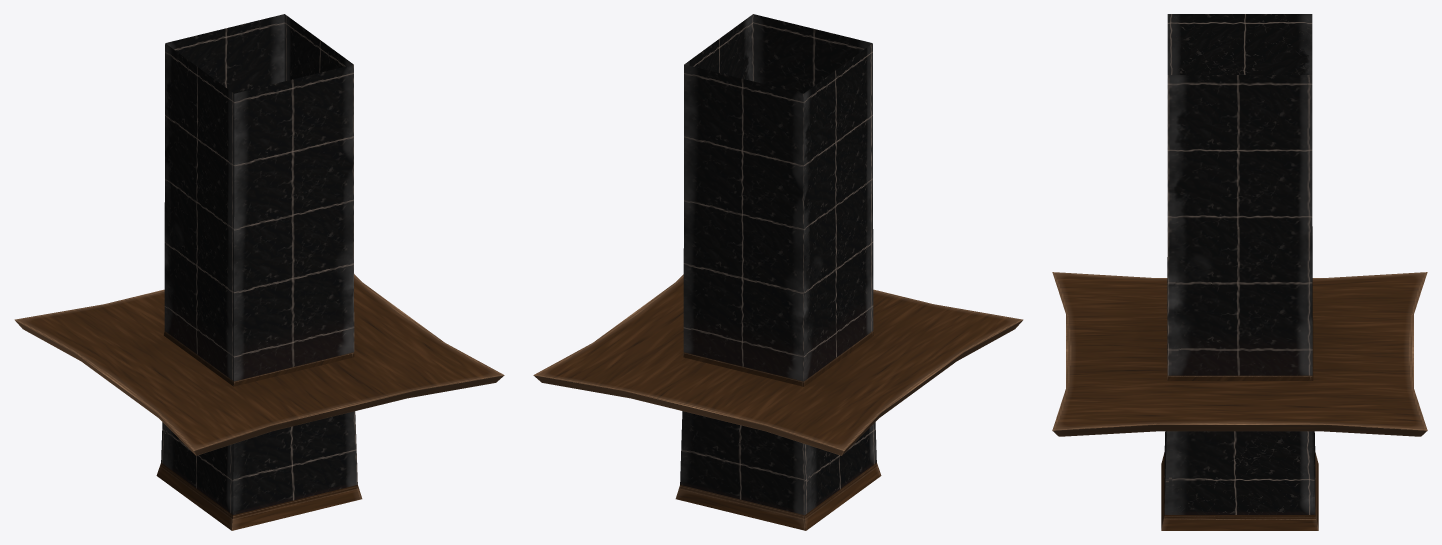
Rendered from SM_Pillar_LOD2.fbx.
3 renders of one model, left to right at view 1: azimuth 30°, elevation 25°; view 2: azimuth 150°, elevation 25°; view 3: azimuth 270°, elevation 25°, orthographic. The views are drawn at different scales.
Visible parts, largest first — view 1: Pillar_Lod2; view 2: Pillar_Lod2; view 3: Pillar_Lod2.
Boxes of the visible parts, left/top/right/bottom form: Pillar_Lod2: left=14, top=14, right=504, bottom=530; Pillar_Lod2: left=533, top=14, right=1023, bottom=530; Pillar_Lod2: left=1052, top=14, right=1427, bottom=530.
Size of the model in its own units: 284 by 378 by 284.
